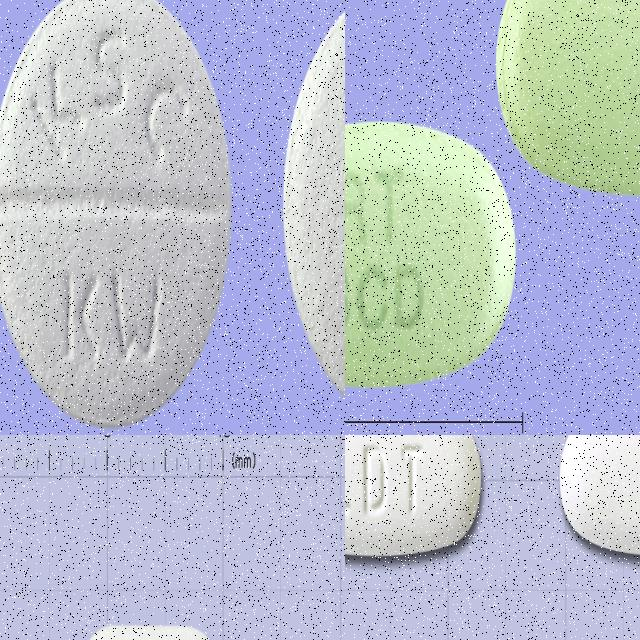K-Sacin: (0, 0, 232, 428), (283, 0, 345, 424)
Revloxin Tab: (345, 119, 515, 381), (495, 0, 640, 197)
Seoul Cefixime Cap: (345, 435, 483, 558), (559, 435, 640, 557)
